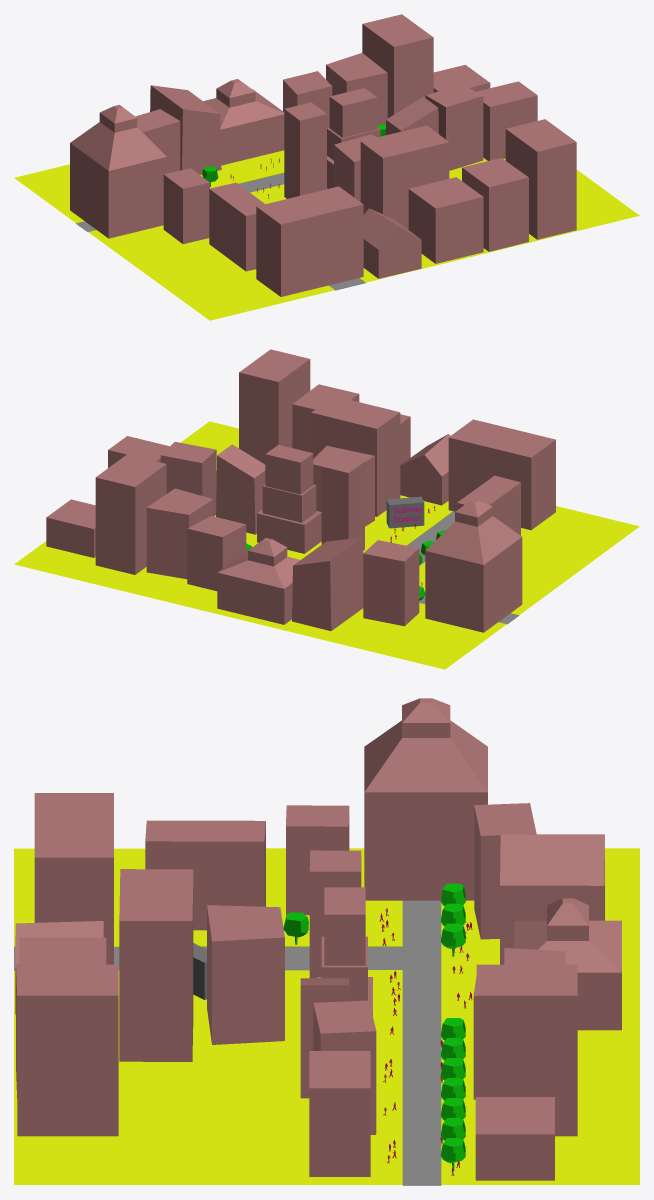
Rendered from street.glb.
3 views of the same model, one above another, from view 1: azimuth 30°, elevation 25°; view 2: azimuth 150°, elevation 25°; view 3: azimuth 270°, elevation 25° (orthographic). The views are drawn at different scales.
Parts seen in each view (by area): view 1: buildings, street; view 2: buildings, street, Cube.001; view 3: buildings, street, trees, ppl, Cube.001.
Part boxes in pixels (x1,y1,x2,y2): buildings: [70, 14, 576, 296]; street: [14, 150, 639, 320]; buildings: [46, 349, 555, 632]; street: [14, 421, 639, 669]; Cube.001: [386, 496, 424, 528]; buildings: [15, 698, 621, 1180]; street: [14, 848, 639, 1185]; trees: [283, 883, 465, 1170]; ppl: [379, 908, 472, 1175]; Cube.001: [193, 943, 206, 999].
Bounding box in the file's own units: 205 × 50.44 × 161.
